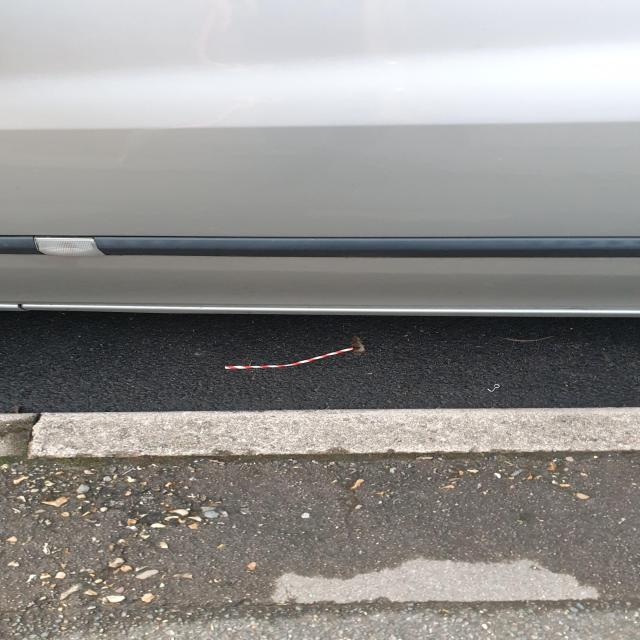litter: (225, 349, 354, 369)
